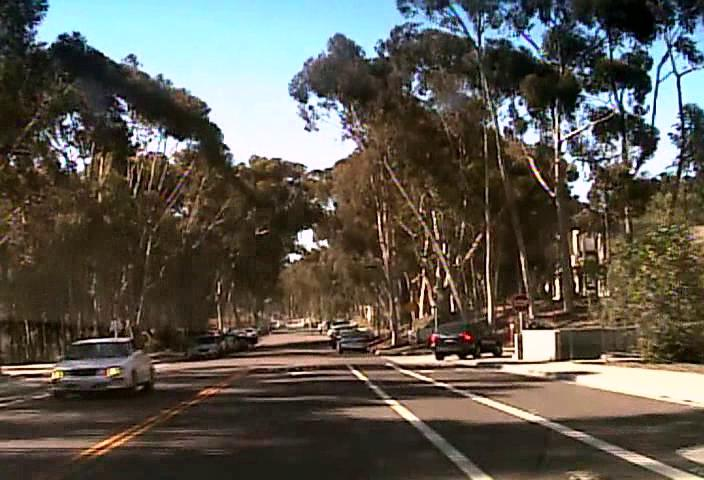stop: (510, 293, 530, 312)
